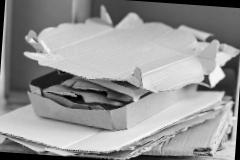paper: (0, 0, 240, 160), (0, 74, 232, 160), (21, 0, 222, 96), (25, 71, 198, 136), (173, 24, 240, 89)
